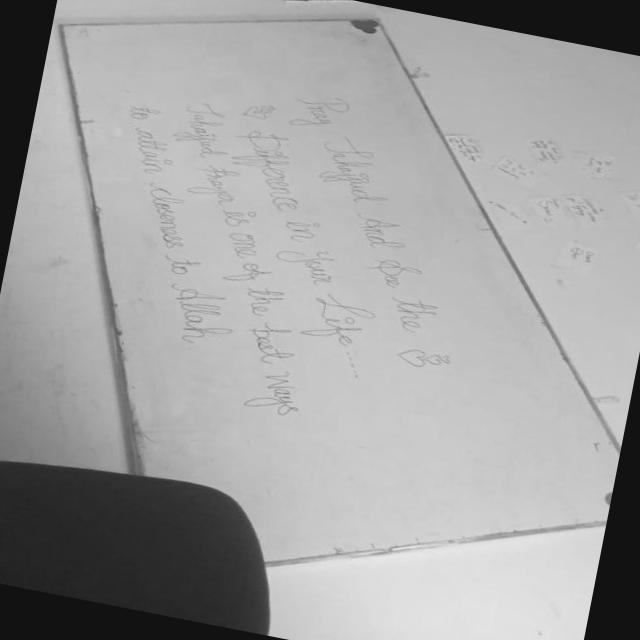White-board: (51, 21, 608, 567)
